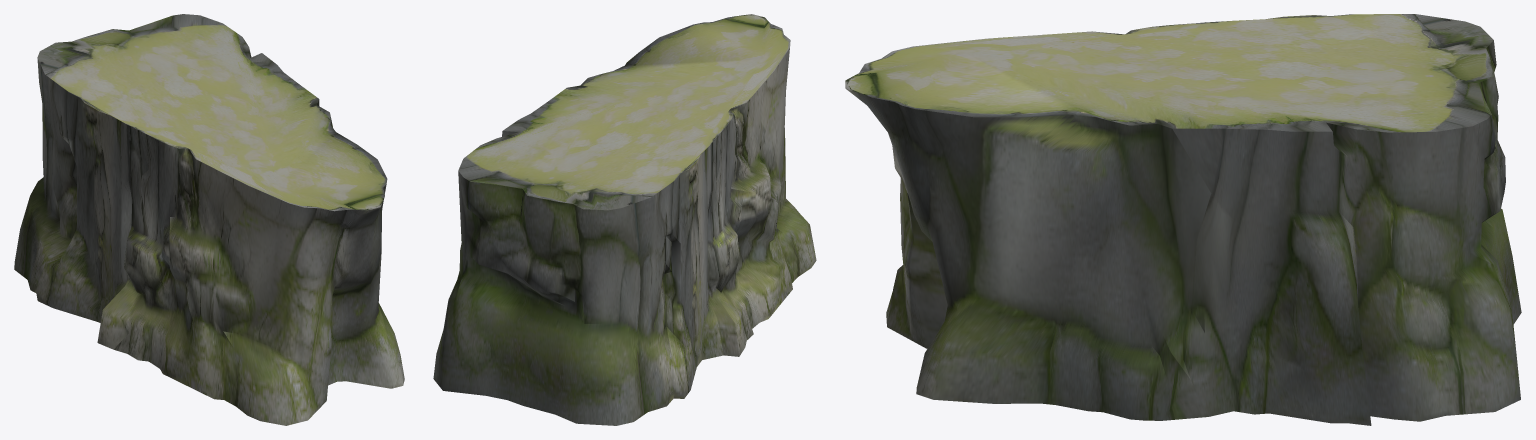
The model's file is GateSpur_LOD1.fbx.
3 renders of one model, left to right at view 1: azimuth 30°, elevation 25°; view 2: azimuth 150°, elevation 25°; view 3: azimuth 270°, elevation 25°, orthographic. The views are drawn at different scales.
Parts seen in each view (by area): view 1: GateSpur_LOD1; view 2: GateSpur_LOD1; view 3: GateSpur_LOD1.
Boxes of the visible parts, box(x1,y1,x2,y2) form: GateSpur_LOD1: box(14, 14, 404, 425); GateSpur_LOD1: box(433, 14, 816, 425); GateSpur_LOD1: box(845, 14, 1521, 425).
Size of the model in its own units: 9.33 by 8.04 by 17.82.
1 material, 1 textured.
